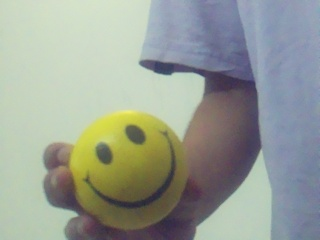ball: (69, 110, 187, 230)
